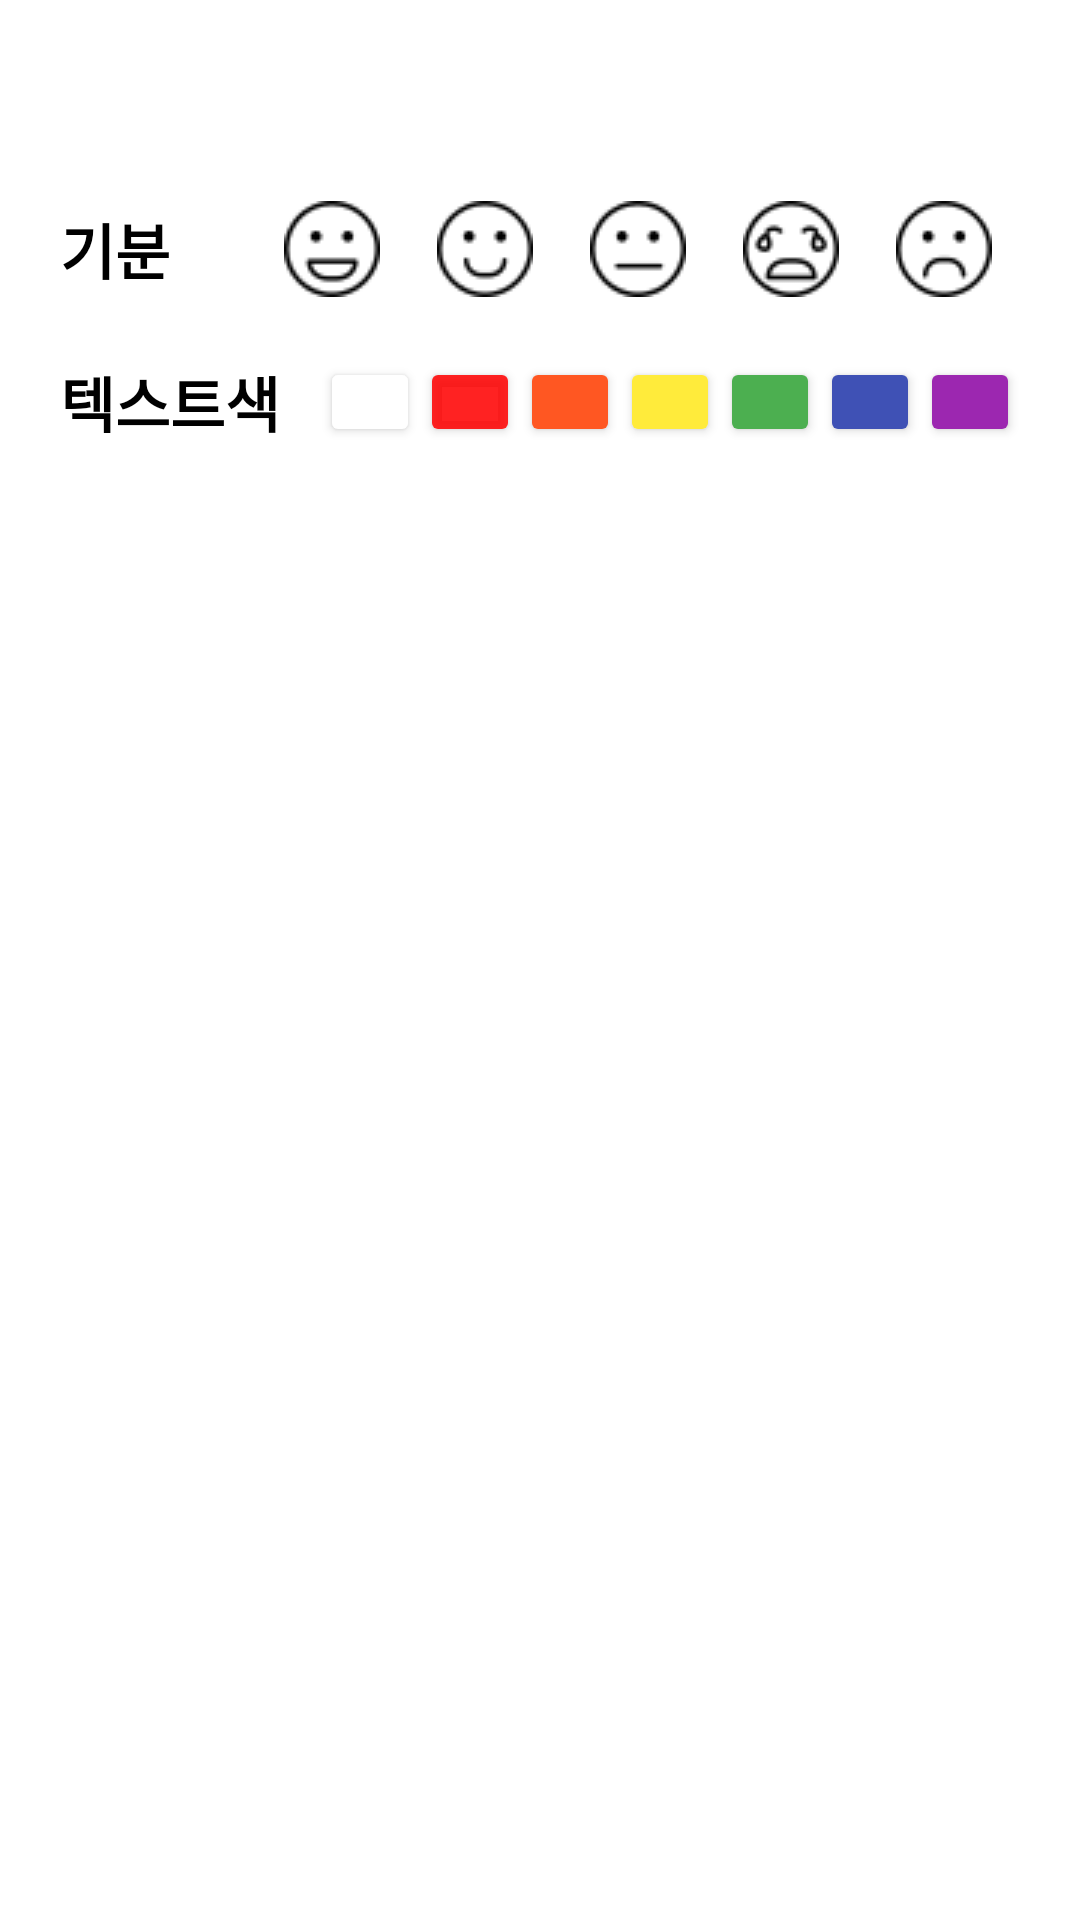

Icons on this 1080 × 1920 Android screen, each with the point to tap as (x,y):
good: (485,249)
happy: (332,249)
soso: (638,249)
